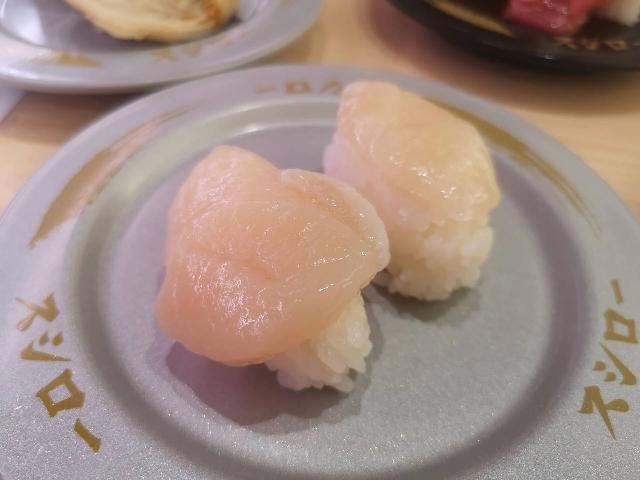janback: (362, 0, 640, 61)
janwhite: (52, 102, 571, 480), (0, 0, 309, 71)
